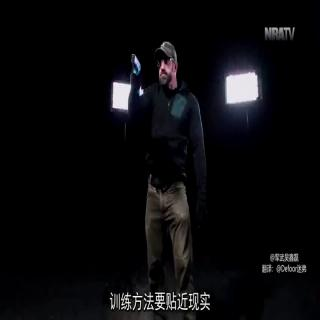gun: (120, 44, 143, 108)
